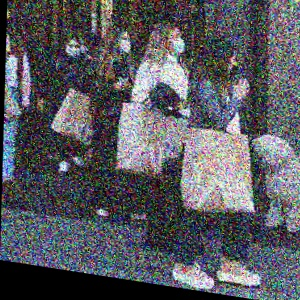zara: (141, 69, 300, 285), (108, 51, 232, 234), (66, 38, 126, 196)
